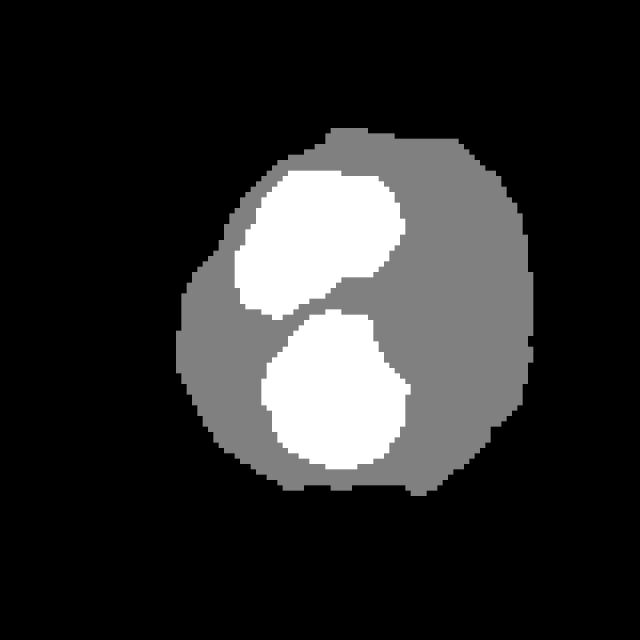WBC: (155, 112, 544, 517)
